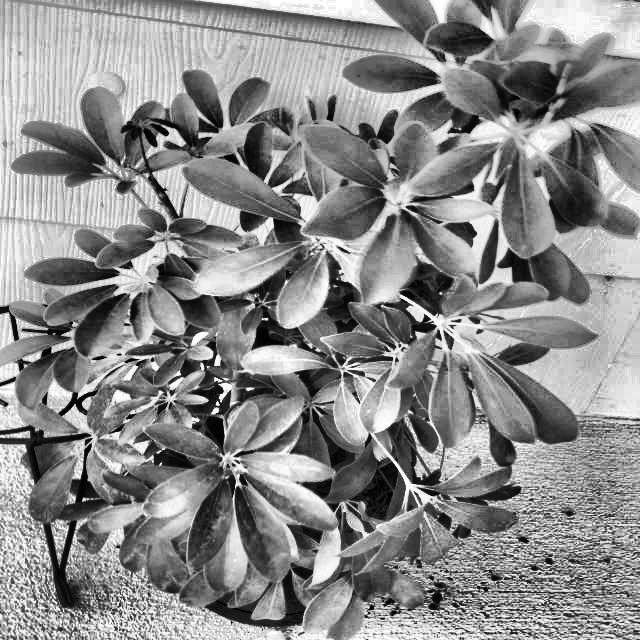plants: (11, 38, 616, 518)
